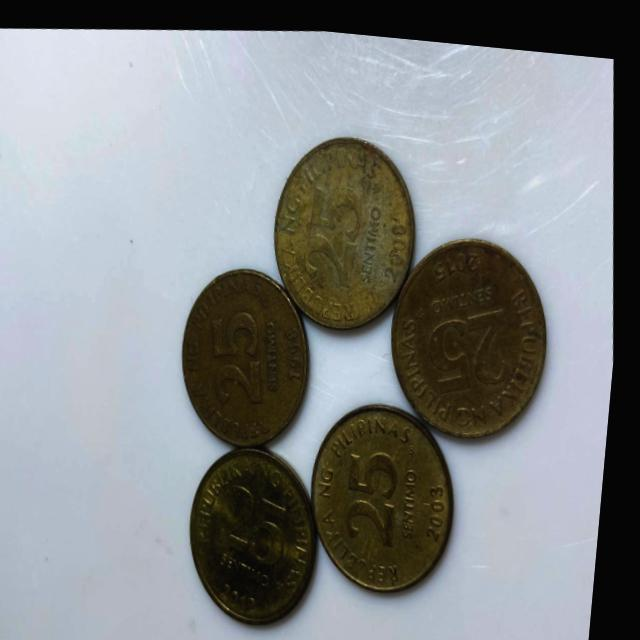25Cent_Old_Front: (426, 280, 522, 395), (296, 170, 373, 281), (343, 434, 422, 542), (208, 292, 282, 400), (221, 476, 305, 558)
